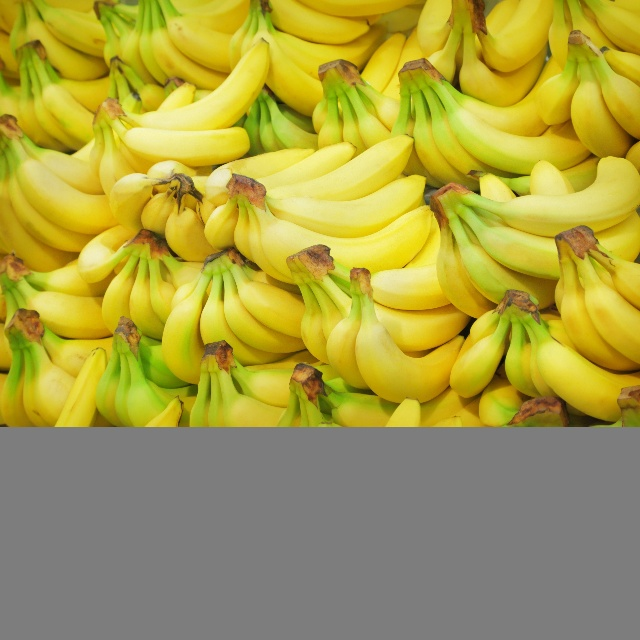chuoi: (278, 245, 454, 402), (211, 164, 443, 273), (440, 185, 639, 299), (400, 53, 581, 173), (458, 293, 628, 412), (1, 109, 121, 270), (153, 255, 308, 376), (82, 90, 263, 184), (87, 1, 265, 79), (542, 27, 636, 156), (1, 299, 95, 424), (92, 318, 191, 423), (6, 36, 105, 139), (298, 50, 398, 147), (192, 340, 300, 425)
